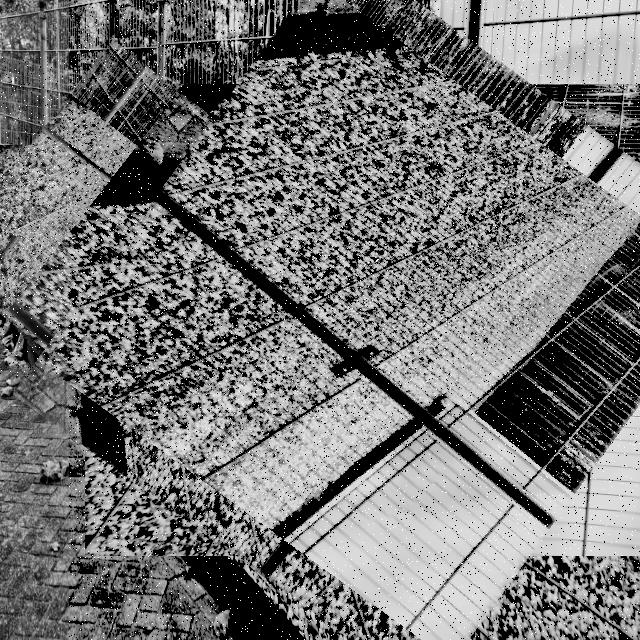fences: (69, 0, 640, 640), (0, 57, 251, 380)
